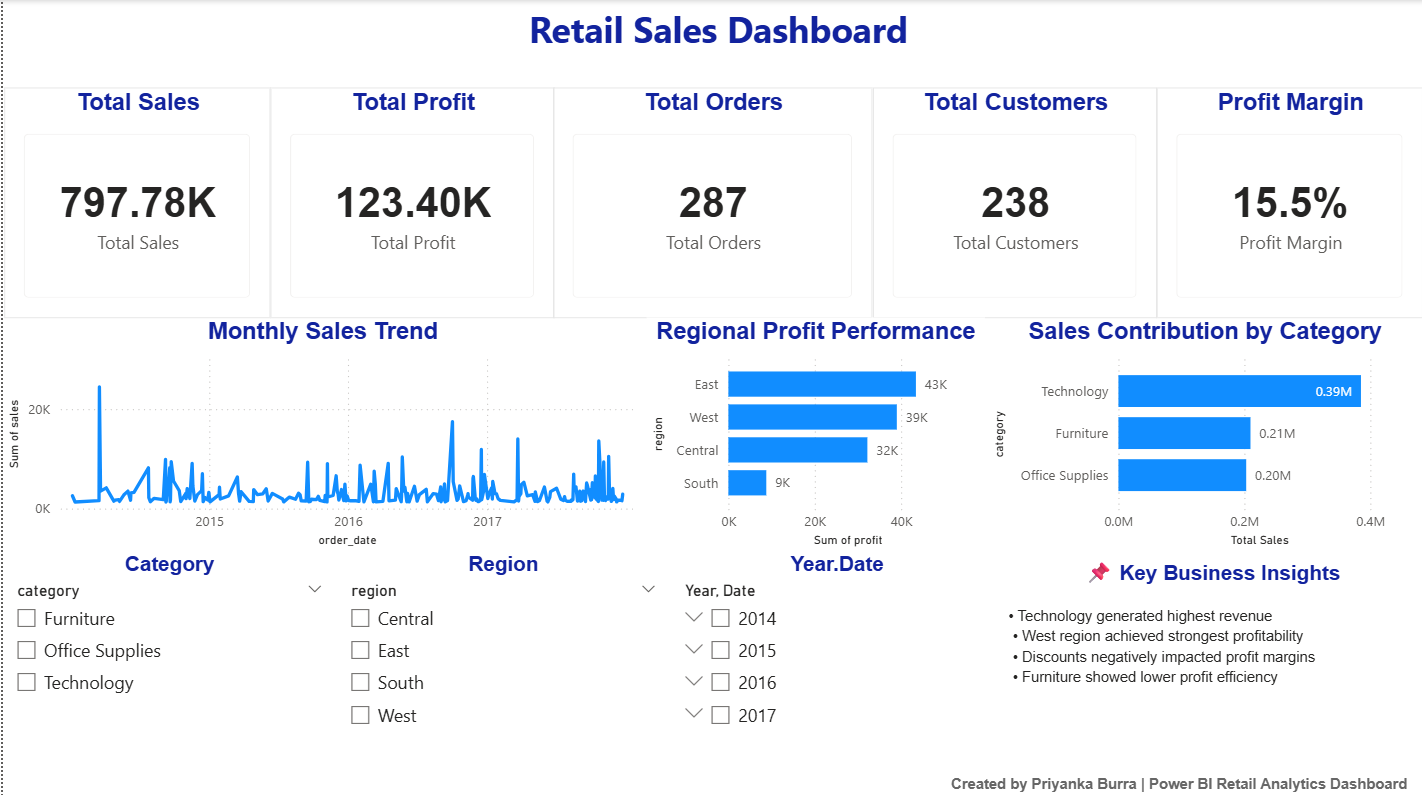

Layout of this report page (visuals, bound fields, positions):
{"tool":"powerbi","page":{"name":"Page 1","canvas":[1280,720],"ordinal":0},"visuals":[{"type":"textbox","box":[452.6,0,374.9,53.1],"z":0},{"type":"lineChart","title":"Monthly Sales Trend","fields":{"Y":["Sum(cleaned_sales.sales)"],"Category":["cleaned_sales.order_date"]},"box":[0,286.8,577,212.3],"z":1000},{"type":"clusteredBarChart","title":"Sales Contribution by Category","fields":{"Category":["cleaned_sales.category"],"Y":["Date_Table.Total Sales"]},"box":[888.2,286.8,391.8,212.3],"z":2000},{"type":"slicer","title":"Year.Date","fields":{"Values":["Date_Table.Year","Date_Table.Date"]},"box":[601.5,498.7,300.4,221.3],"z":3000},{"type":"slicer","title":"Region","fields":{"Values":["cleaned_sales.region"]},"box":[300.7,498.7,300.4,221.3],"z":4000},{"type":"slicer","title":"Category","fields":{"Values":["cleaned_sales.category"]},"box":[0,498.7,300.4,221.3],"z":5000},{"type":"textbox","box":[901.7,498.7,378.3,221.3],"z":6000},{"type":"cardVisual","title":"Total Sales","fields":{"Data":["Date_Table.Total Sales"]},"box":[0.9,79.1,240,208],"z":7000},{"type":"cardVisual","title":"Total Profit","fields":{"Data":["Date_Table.Total Profit"]},"box":[240.6,79.1,256,208],"z":8000},{"type":"cardVisual","title":"Total Orders","fields":{"Data":["Date_Table.Total Orders"]},"box":[496.4,79.1,288,208],"z":9000},{"type":"cardVisual","title":"Total Customers","fields":{"Data":["Date_Table.Total Customers"]},"box":[784.2,79.1,256,208],"z":10000},{"type":"cardVisual","title":"Profit Margin","fields":{"Data":["Date_Table.Profit Margin"]},"box":[1040,79.1,240,208],"z":11000},{"type":"textbox","box":[850.3,692.2,430.2,28.2],"z":12000},{"type":"clusteredBarChart","title":"Regional Profit Performance","fields":{"Category":["cleaned_sales.region"],"Y":["Sum(cleaned_sales.profit)"]},"box":[580.4,286.8,304.9,212.3],"z":13000}]}

Visuals, with their boxes in screenshot pixels (x1, y1, x2, y2), scaled from the page's 1280x720 canvas onto the 1422x795 screenshot:
textbox: [left=503, top=0, right=919, bottom=59]
"Monthly Sales Trend" lineChart: [left=0, top=317, right=641, bottom=551]
"Sales Contribution by Category" clusteredBarChart: [left=987, top=317, right=1421, bottom=551]
"Year.Date" slicer: [left=668, top=551, right=1002, bottom=794]
"Region" slicer: [left=334, top=551, right=668, bottom=794]
"Category" slicer: [left=0, top=551, right=334, bottom=794]
textbox: [left=1002, top=551, right=1421, bottom=794]
"Total Sales" cardVisual: [left=1, top=87, right=268, bottom=317]
"Total Profit" cardVisual: [left=267, top=87, right=552, bottom=317]
"Total Orders" cardVisual: [left=551, top=87, right=871, bottom=317]
"Total Customers" cardVisual: [left=871, top=87, right=1156, bottom=317]
"Profit Margin" cardVisual: [left=1155, top=87, right=1421, bottom=317]
textbox: [left=945, top=764, right=1421, bottom=794]
"Regional Profit Performance" clusteredBarChart: [left=645, top=317, right=984, bottom=551]
